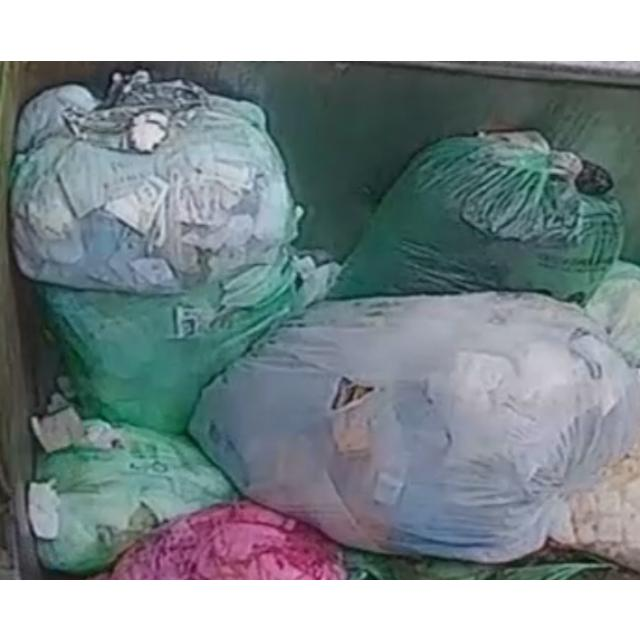general_trashbag: (331, 130, 624, 301), (38, 419, 238, 573)
other_trashbag: (190, 291, 638, 561), (11, 70, 299, 432), (108, 500, 345, 579)
